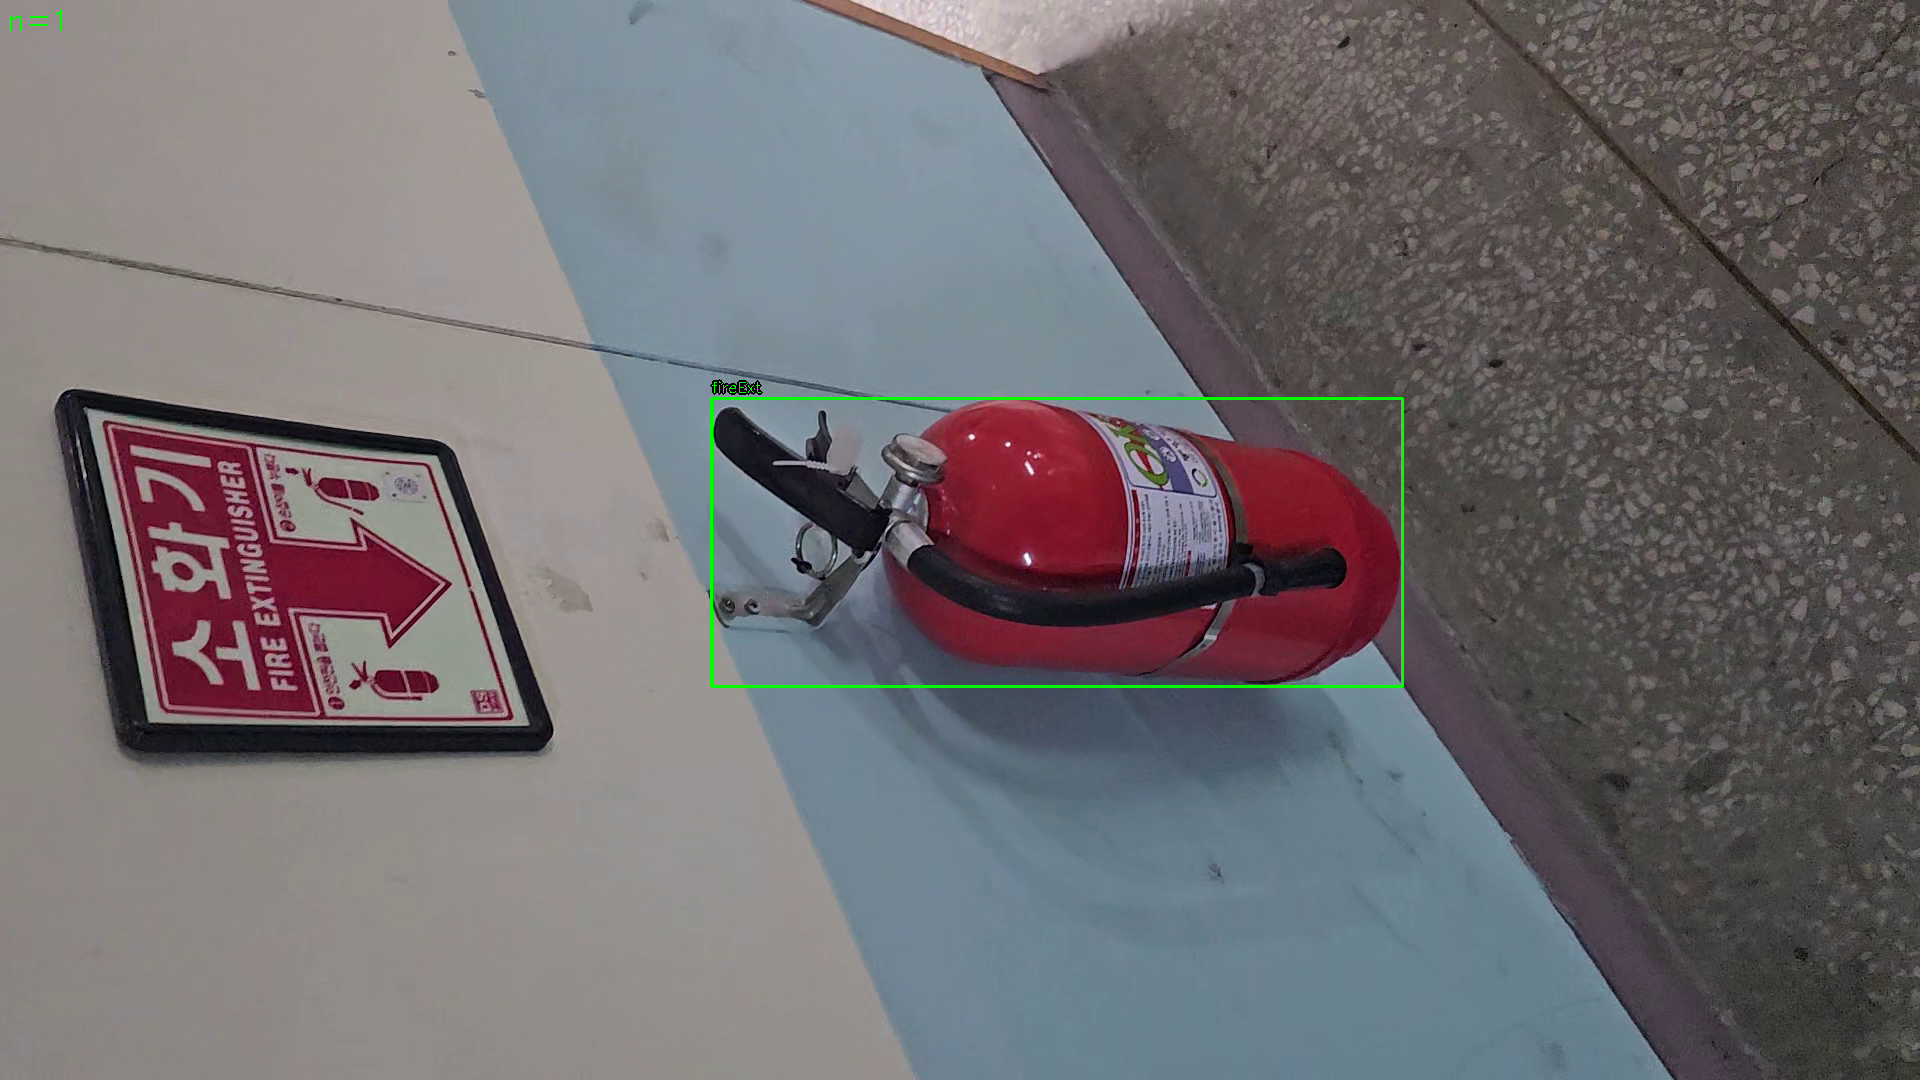lane: (711, 398, 1403, 687)
